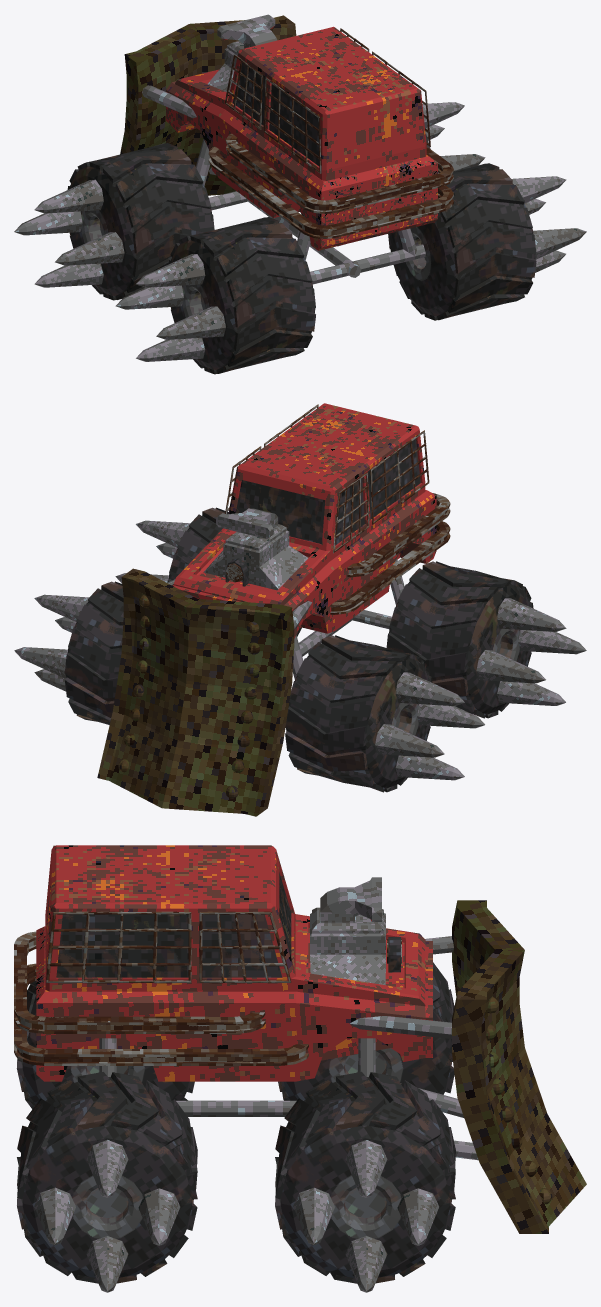
The model's file is Player truck w. upgrades.fbx.
The picture shows the model from 3 angles, top to bottom: view 1: azimuth 30°, elevation 25°; view 2: azimuth 150°, elevation 25°; view 3: azimuth 270°, elevation 25°; orthographic projection. The views are drawn at different scales.
Visible parts, largest first — view 1: Cube, Cylinder.005, Cylinder.001, Cylinder.002, Plane, Cylinder.014, Cylinder.013, Plane.002, Plane.001, Cylinder.010, Cube.001, Cylinder.011 (+2 smaller); view 2: Plane, Cube, Cylinder.002, Cylinder.005, Cylinder, Cylinder.013, Cylinder.014, Cube.001, Cylinder.012, Plane.002, Plane.001, Cylinder.001 (+2 smaller); view 3: Cube, Cylinder.001, Cylinder, Plane, Cylinder.011, Cylinder.012, Cube.001, Plane.001, Plane.002, Cylinder.002, Cylinder.005, Cylinder.010 (+2 smaller).
Boxes of the visible parts, x1,y1,x2,y2 form: Cube: [166, 14, 437, 250]; Cylinder.005: [168, 217, 315, 374]; Cylinder.001: [388, 163, 536, 320]; Cylinder.002: [67, 143, 214, 300]; Plane: [120, 15, 296, 195]; Cylinder.014: [115, 254, 225, 361]; Cylinder.013: [14, 179, 124, 287]; Plane.002: [208, 146, 453, 238]; Plane.001: [226, 133, 453, 213]; Cylinder.010: [196, 139, 426, 284]; Cube.001: [224, 28, 430, 173]; Cylinder.011: [512, 176, 586, 272]; Plane: [97, 568, 294, 816]; Cube: [172, 403, 436, 638]; Cylinder.002: [285, 635, 432, 792]; Cylinder.005: [386, 561, 533, 718]; Cylinder: [64, 581, 123, 724]; Cylinder.013: [375, 672, 484, 780]; Cylinder.014: [476, 598, 586, 705]; Cube.001: [225, 404, 429, 553]; Cylinder.012: [14, 594, 88, 691]; Plane.002: [330, 521, 450, 614]; Plane.001: [347, 493, 450, 577]; Cylinder.001: [167, 507, 301, 636]; Cube: [36, 845, 432, 1081]; Cylinder.001: [17, 1072, 197, 1283]; Cylinder: [275, 1071, 455, 1283]; Plane: [452, 900, 586, 1233]; Cylinder.011: [34, 1140, 180, 1292]; Cylinder.012: [293, 1140, 439, 1292]; Cube.001: [46, 845, 291, 983]; Plane.001: [14, 931, 265, 1033]; Plane.002: [14, 963, 308, 1065]; Cylinder.002: [278, 962, 454, 1100]; Cylinder.005: [16, 981, 194, 1109]; Cylinder.010: [99, 1038, 375, 1116].
Bounding box in the file's own units: 738 × 406 × 665.
Materials: 5 (5 with a texture image).
